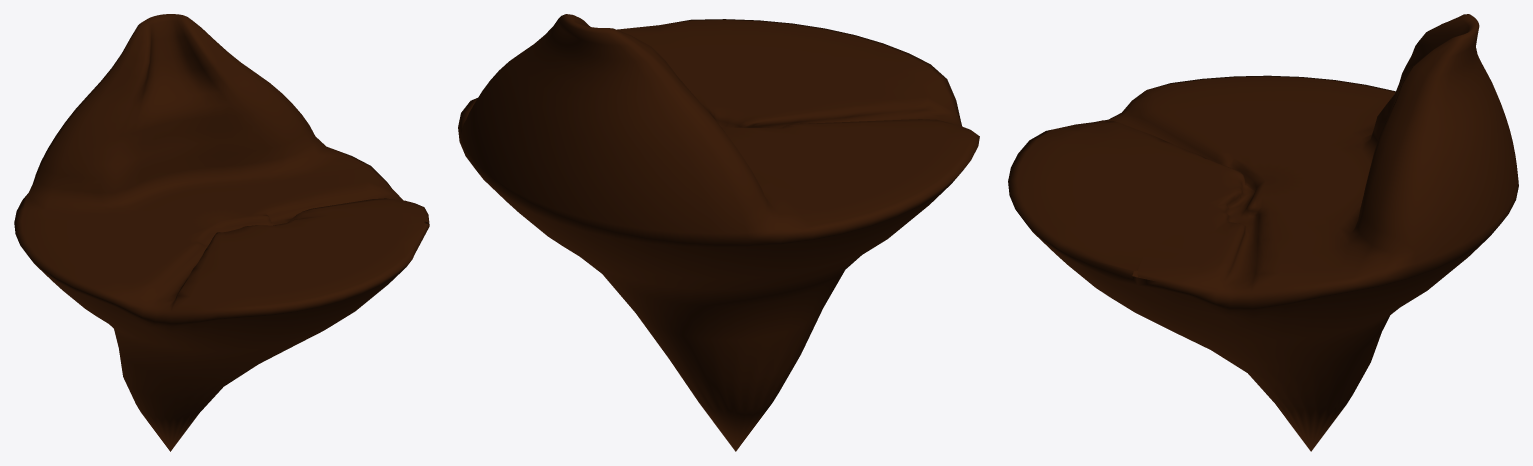
File: illaBosc.fbx
The picture shows the model from 3 angles, left to right: view 1: azimuth 30°, elevation 25°; view 2: azimuth 150°, elevation 25°; view 3: azimuth 270°, elevation 25°; orthographic projection. The views are drawn at different scales.
Visible parts, largest first — view 1: IslaBosque; view 2: IslaBosque; view 3: IslaBosque.
Boxes of the visible parts, <box> form: IslaBosque: <box>14,14,429,451</box>; IslaBosque: <box>458,14,979,451</box>; IslaBosque: <box>1008,14,1518,451</box>.
Bounding box in the file's own units: 548 × 553 × 556.
